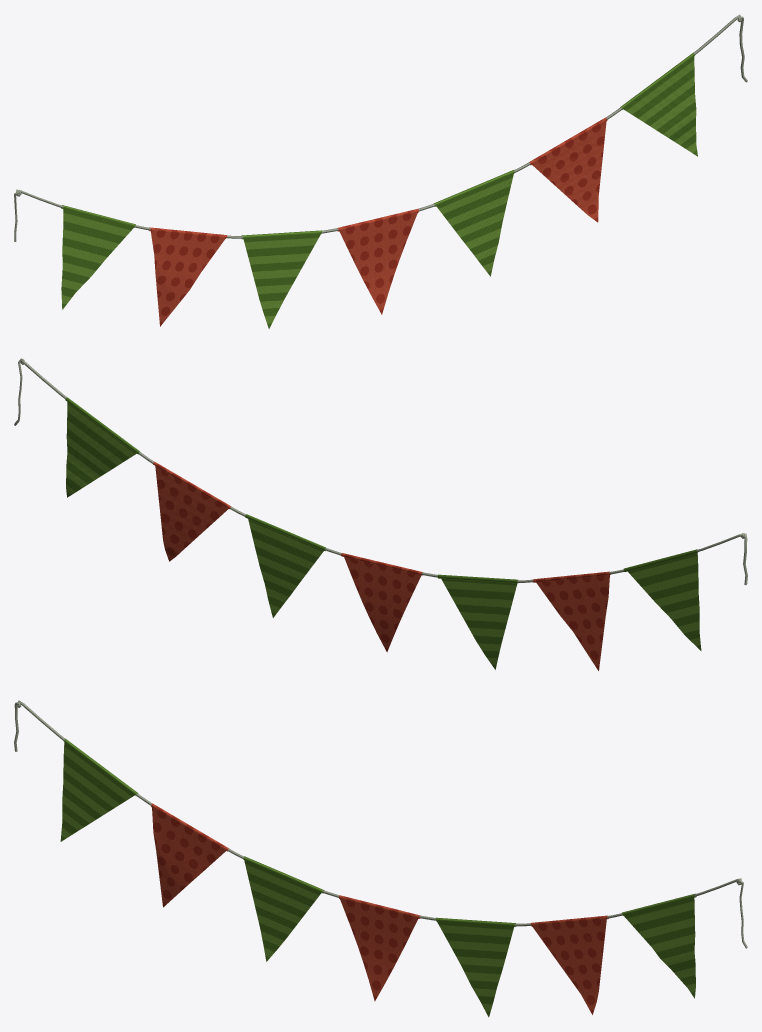
The model's file is Pennants.FBX.
3 views of the same model, one above another, from view 1: azimuth 30°, elevation 25°; view 2: azimuth 150°, elevation 25°; view 3: azimuth 330°, elevation 25° (orthographic).
Parts seen in each view (by area): view 1: Pennants; view 2: Pennants; view 3: Pennants.
Part boxes in pixels (x1,y1,x2,y2): Pennants: (14, 14, 747, 328); Pennants: (14, 358, 747, 670); Pennants: (14, 700, 747, 1017).
Size of the model in its own units: 205 by 56.15 by 2.55.
